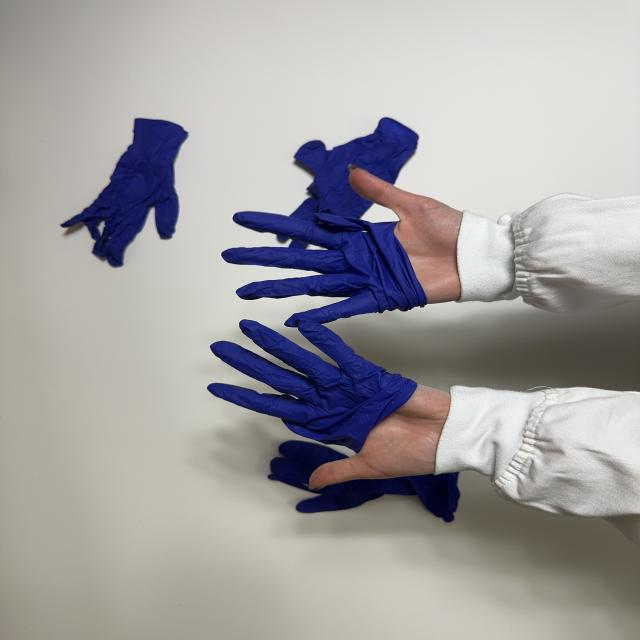glove_partial: (205, 319, 456, 491), (221, 164, 468, 325)
